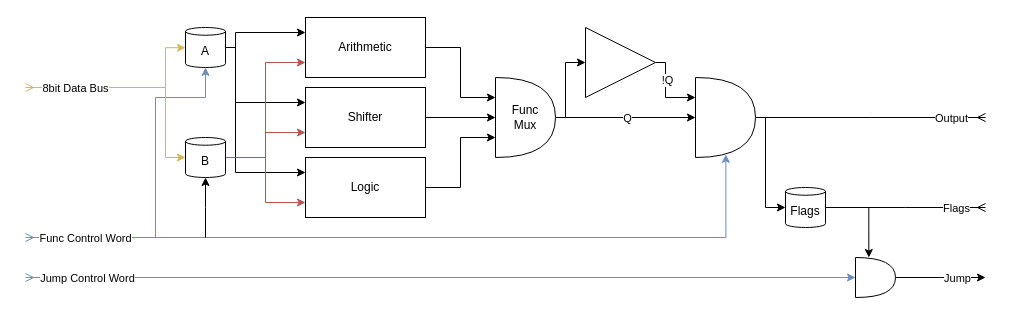
Some shapes in this 1011 by 315 pixel diagram are drawn without their labels. Here are the shapes that lost their labels. From the top down, the centre of each, then its label:
At (620,62): "INVERT".
At (725,117): "Output Mux".
At (875,277): "Jump Mux".
